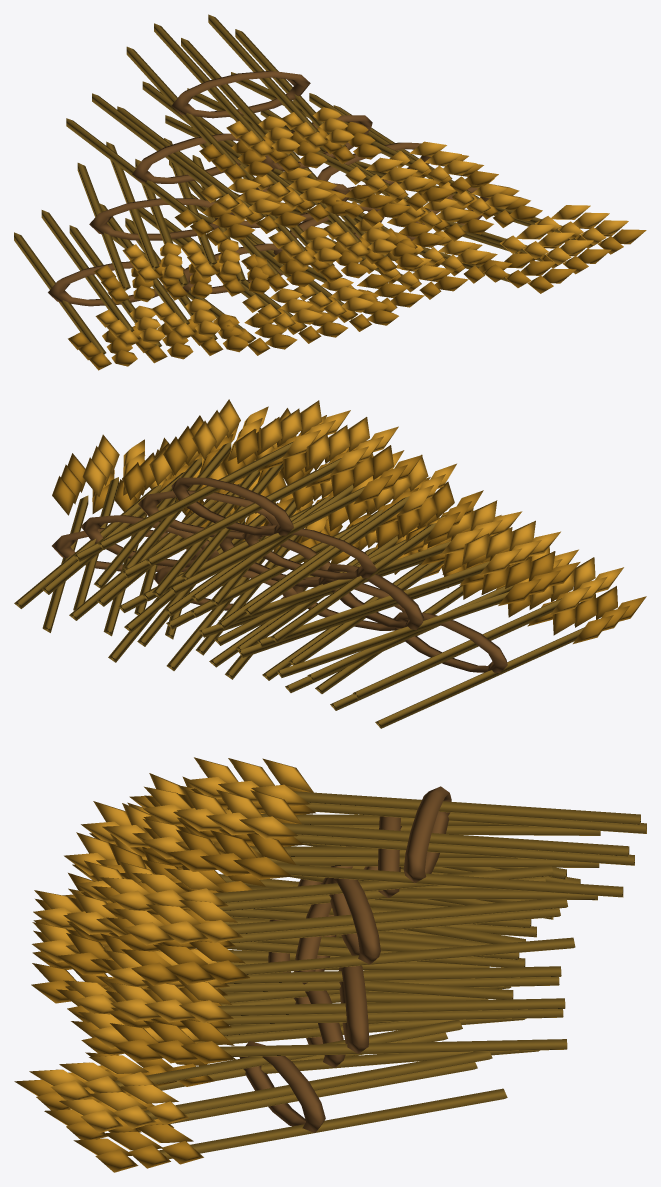
File: pile-rice-10.obj
3 renders of one model, top to bottom at view 1: azimuth 30°, elevation 25°; view 2: azimuth 150°, elevation 25°; view 3: azimuth 270°, elevation 25°, orthographic. The views are drawn at different scales.
Visible parts, largest first — view 1: pile-rice-10; view 2: pile-rice-10; view 3: pile-rice-10.
Boxes of the visible parts, bbox=[...] form: pile-rice-10: bbox=[14, 14, 646, 370]; pile-rice-10: bbox=[14, 399, 646, 728]; pile-rice-10: bbox=[14, 757, 646, 1172].
Size of the model in its own units: 0.7921 by 0.2302 by 0.6108.
1 material, 1 textured.
